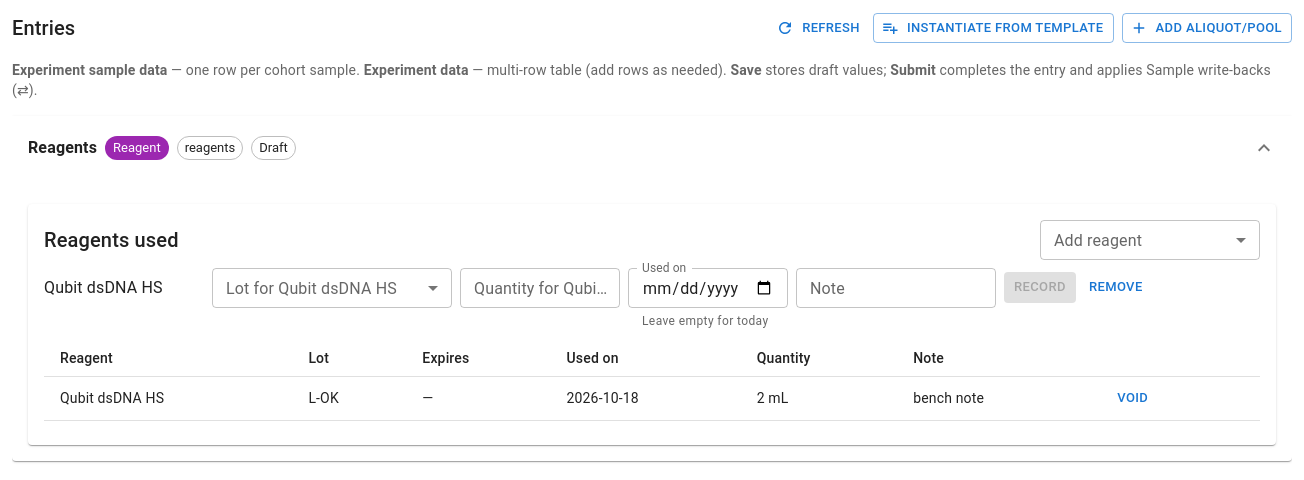
Test: Experiment reagent capture › removes a reagent from the picker and keeps the recorded use
Expected: the text "bench note" is shown, top-left (897, 376), bottom-right (1085, 420)
Click the button with aria-label "Remove Qubit dsDNA HS". click: [1116, 287]
box: top-left (1084, 272), bottom-right (1148, 303)
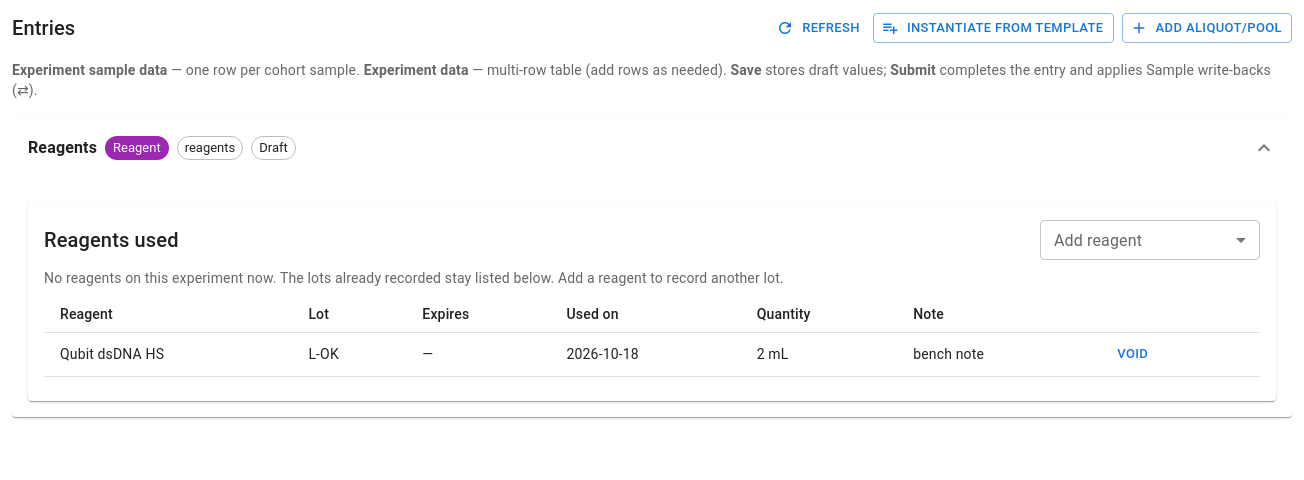
Expected: the text "bench note" is shown, top-left (897, 332), bottom-right (1085, 376)
Result: the label labelled "Lot for Qubit dsDNA HS" is gone
Result: the text "lots already recorded stay listed below" is shown at top-left (44, 270), bottom-right (784, 286)
Press the mouse on the dropdown named "Add reagent" at [1150, 240], box top-left (1040, 220), bottom-right (1260, 260)
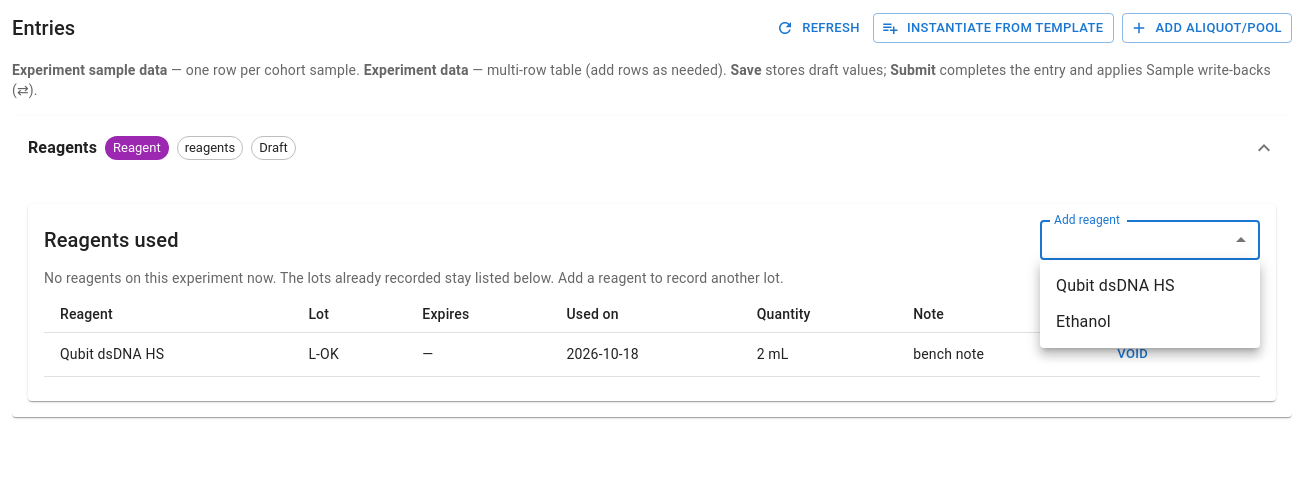
Result: the option "Qubit dsDNA HS" is shown at top-left (1056, 276), bottom-right (1175, 295)
